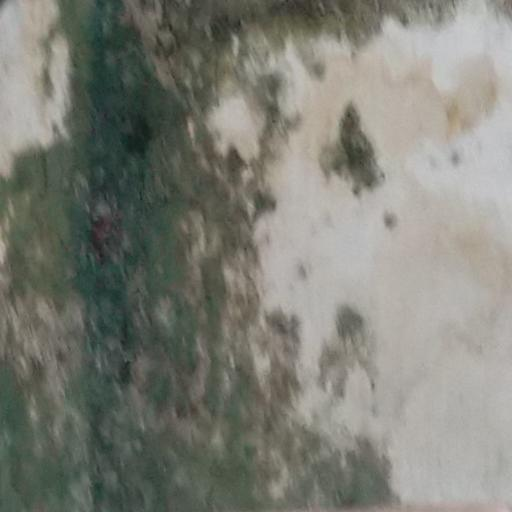algae: (7, 0, 436, 511)
